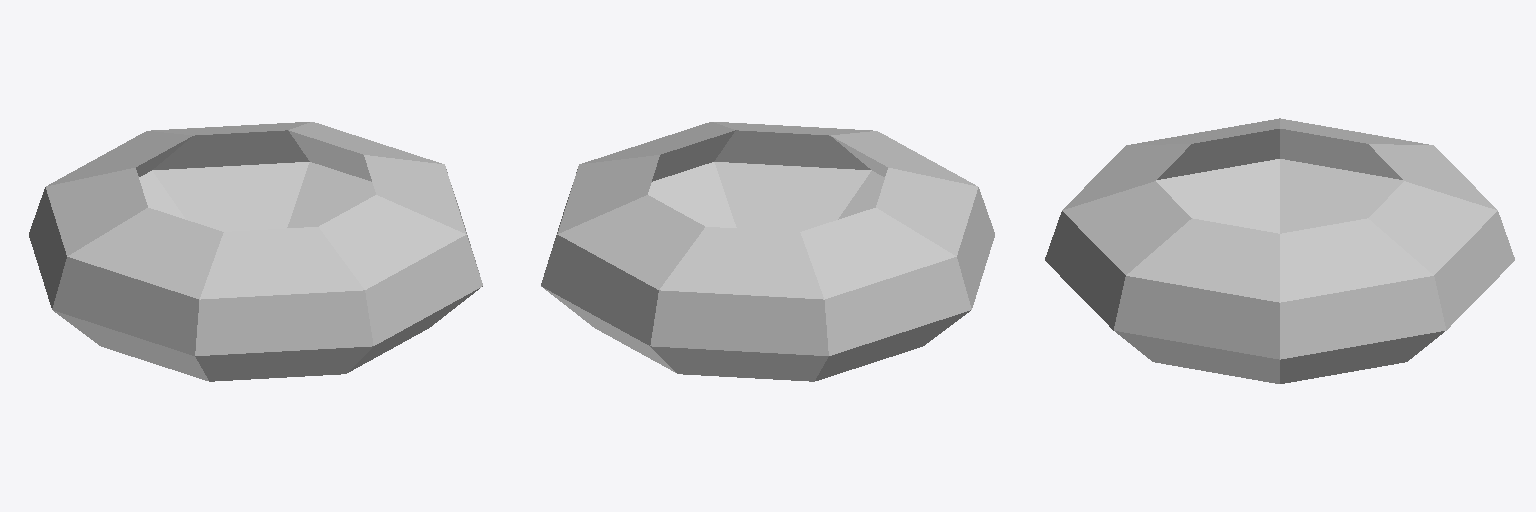
The model's file is taurenbowl05.obj.
3 views of the same model, side by side, from view 1: azimuth 30°, elevation 25°; view 2: azimuth 150°, elevation 25°; view 3: azimuth 270°, elevation 25° (orthographic).
Visible parts, largest first — view 1: taurenbowl05; view 2: taurenbowl05; view 3: taurenbowl05.
Part boxes in pixels (bbox=[...]): taurenbowl05: bbox=[29, 122, 482, 381]; taurenbowl05: bbox=[541, 122, 994, 381]; taurenbowl05: bbox=[1045, 118, 1514, 383].
Bounding box in the file's own units: 1.1 × 0.3844 × 1.1.